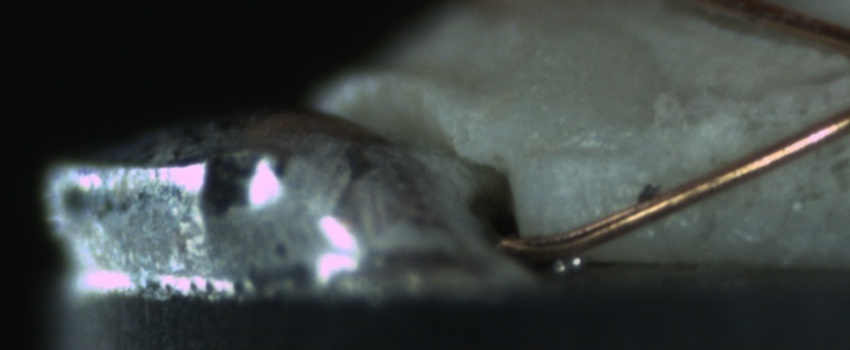DL: (536, 121, 653, 186)
